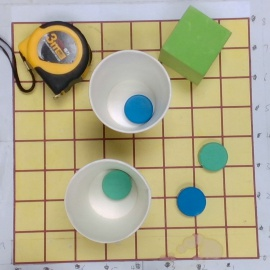blue: (176, 187, 207, 216)
cup_blue: (89, 49, 172, 134)
cup_green: (64, 150, 154, 244)
green: (198, 142, 228, 172)
